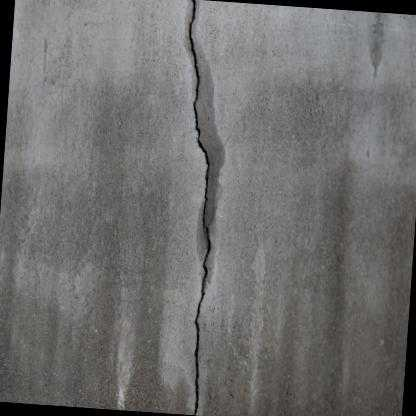crack: (187, 0, 210, 416)
